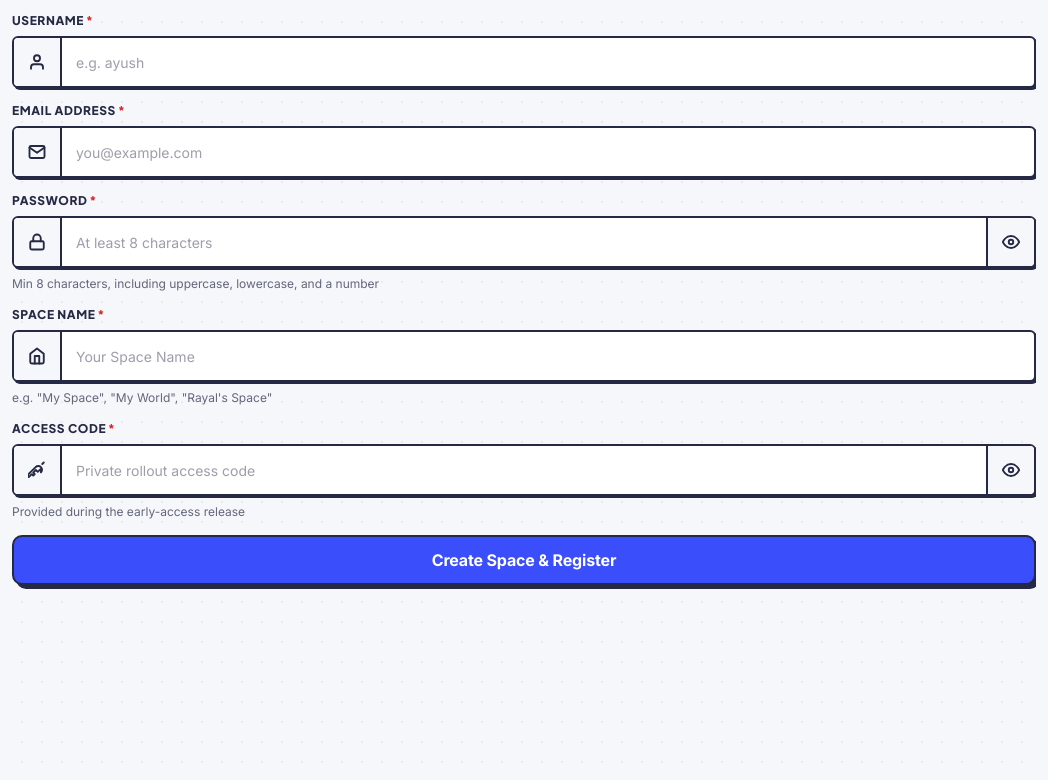
Test: SignupForm Component › validates missing required fields on submit
Click the button "Create Space & Register" at (524, 560), box [12, 535, 1036, 585]
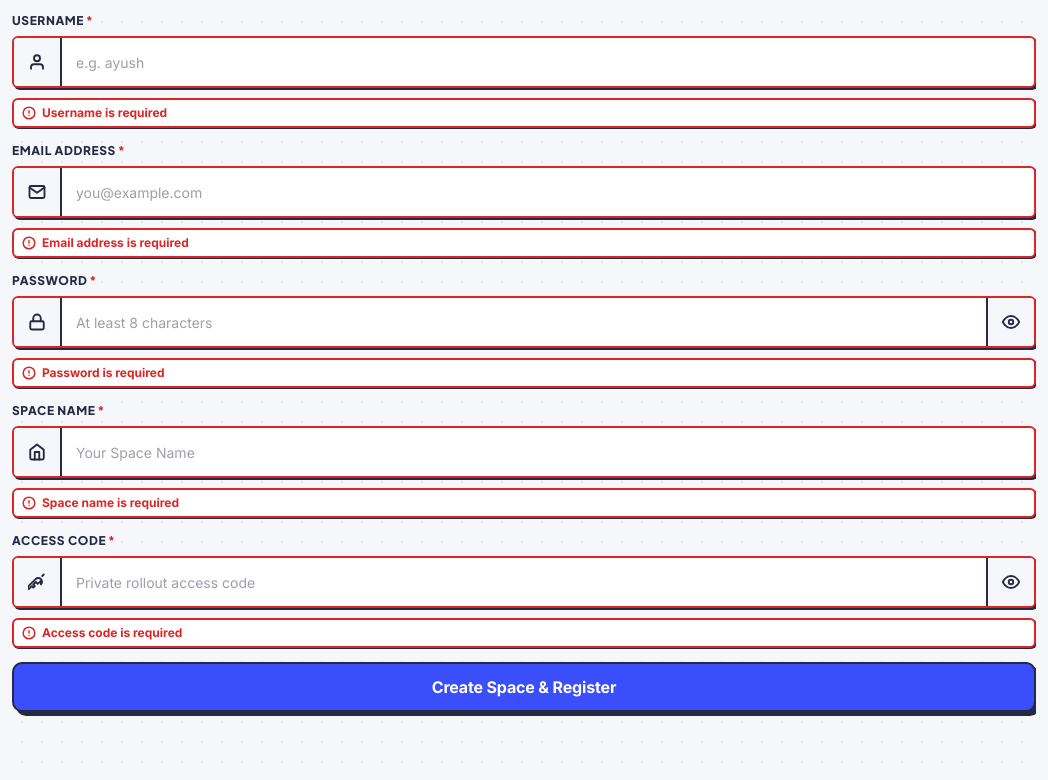
Expected: the text "Username is required" is shown, [42, 104, 167, 122]
Expected: the text "Email address is required" is shown, [42, 234, 189, 252]
Expected: the text "Password is required" is shown, [42, 364, 165, 382]
